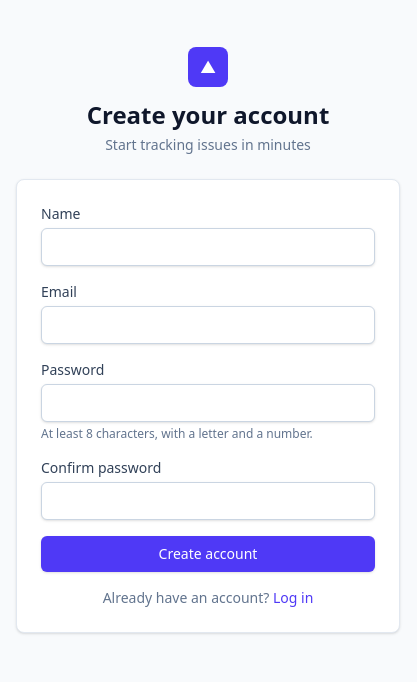
authentication flows › surfaces a duplicate-email error from the server
Type "Ada" into the field labelled "Name". click: (208, 247)
box: x1=41 y1=228 x2=375 y2=266
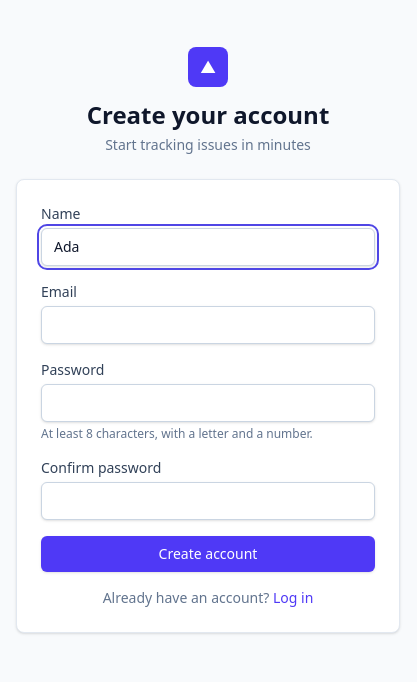
Type "ada@example.com" into the field labelled "Email". click: (208, 325)
box: x1=41 y1=306 x2=375 y2=344
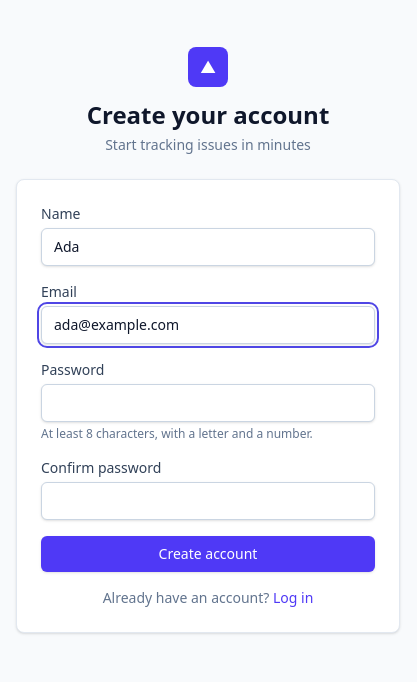
Type "Passw0rd!long" into the password field labelled "Password". click: (208, 403)
box: x1=41 y1=384 x2=375 y2=422
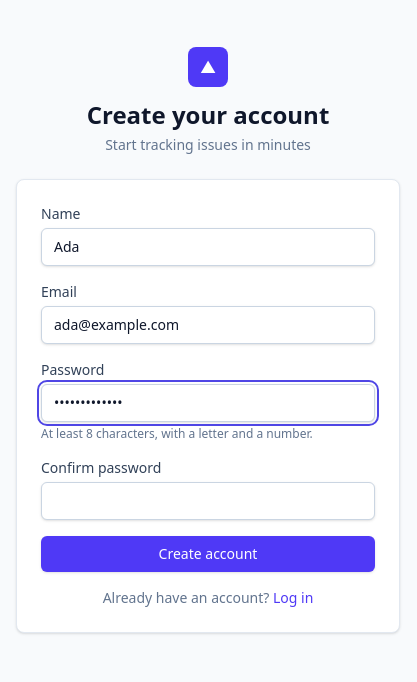
Type "Passw0rd!long" into the password field labelled "Confirm password". click: (208, 501)
box: x1=41 y1=482 x2=375 y2=520
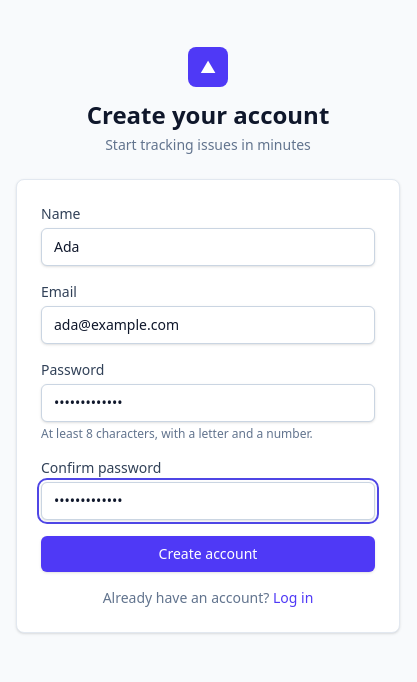
Click the button "Create account". click: click(208, 554)
box: x1=41 y1=536 x2=375 y2=572
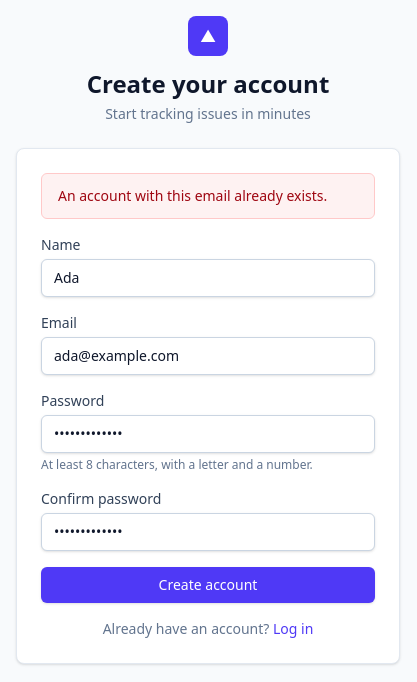
Result: the message shows "already exists" at x1=58 y1=186 x2=327 y2=205
